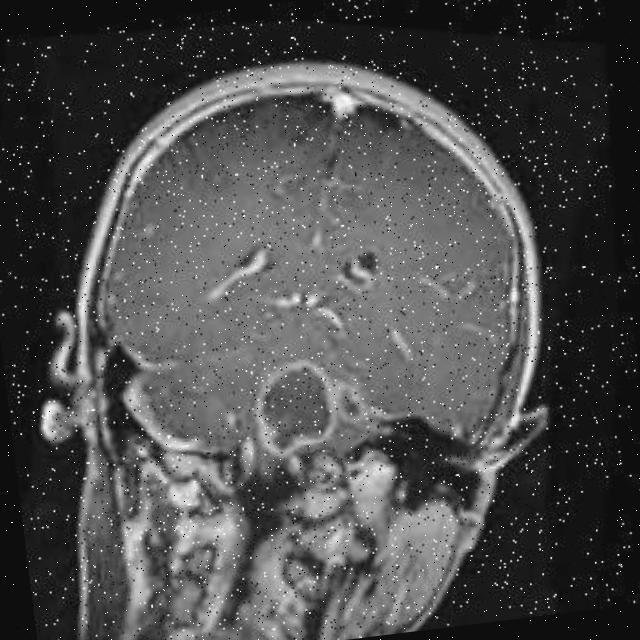CN: (201, 341, 381, 516)
